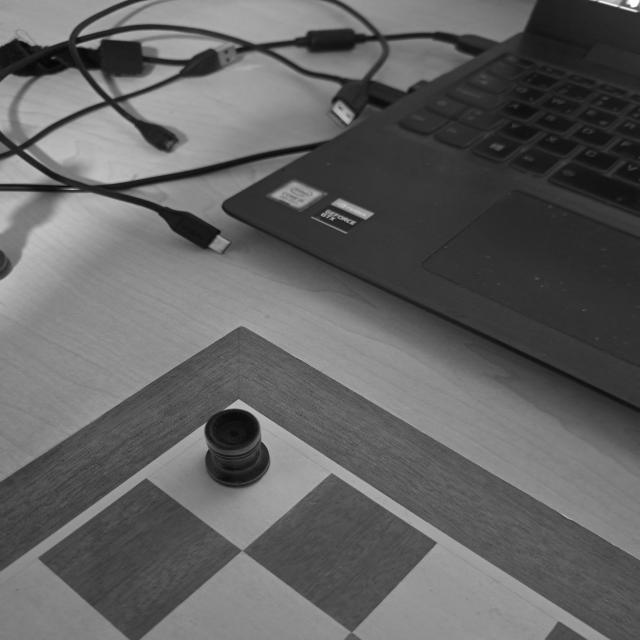chess-table-corners: (182, 385, 296, 452)
